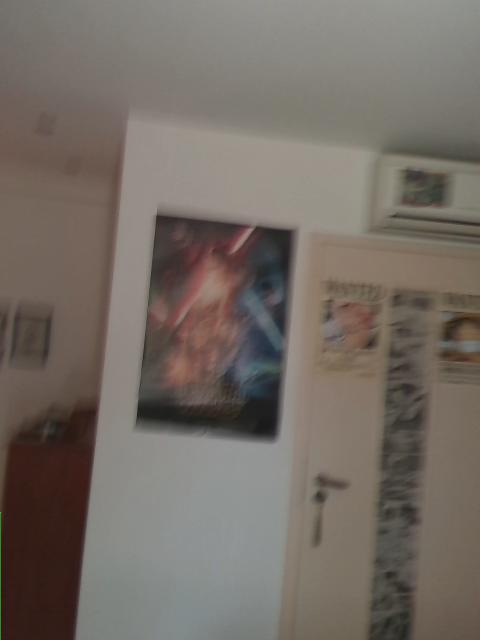closed_door: (282, 235, 479, 639)
